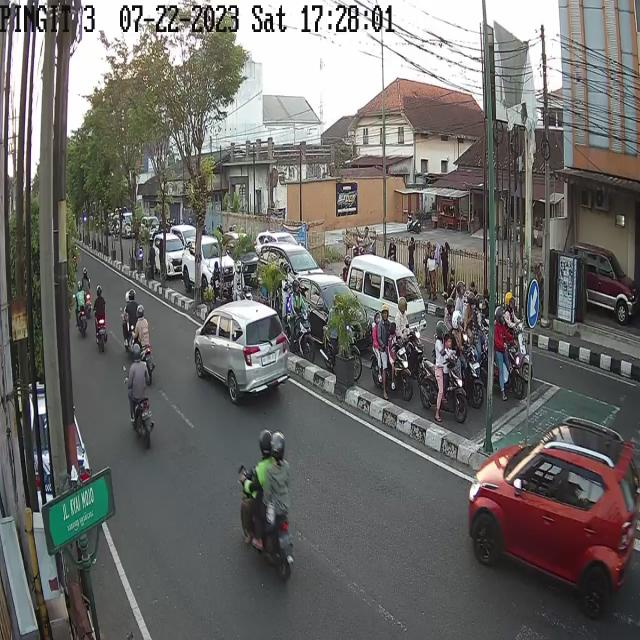car: (466, 422, 640, 624), (192, 298, 291, 402), (289, 270, 364, 360), (346, 255, 424, 326), (575, 244, 638, 325), (260, 249, 326, 307), (178, 241, 234, 299), (152, 231, 187, 285)
motorcycle: (239, 428, 292, 582), (417, 325, 470, 419), (372, 305, 408, 407), (124, 343, 155, 458), (288, 282, 325, 372), (450, 312, 483, 405), (490, 312, 525, 399), (501, 295, 534, 383), (394, 291, 426, 378), (322, 302, 358, 378), (133, 303, 154, 379), (121, 284, 141, 350), (93, 282, 109, 350), (72, 282, 88, 344), (79, 261, 93, 317)
